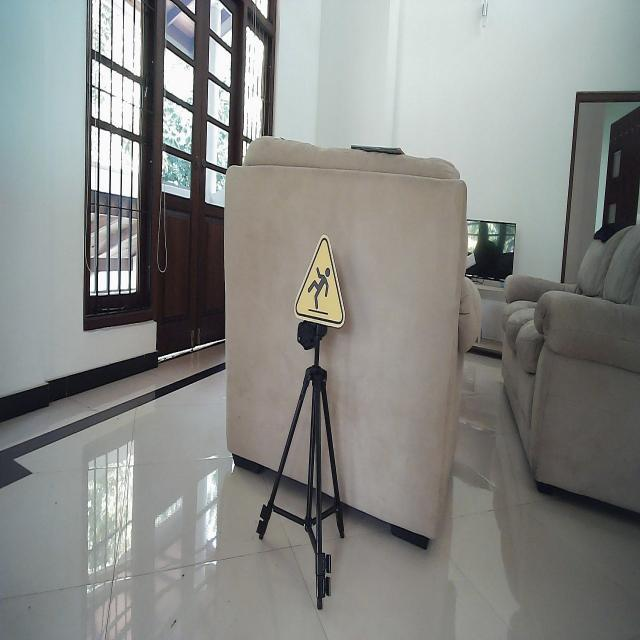slippery_sign: (293, 232, 348, 328)
